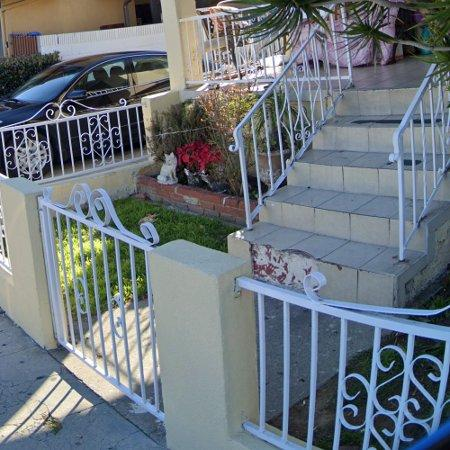stairs: (229, 66, 450, 307)
